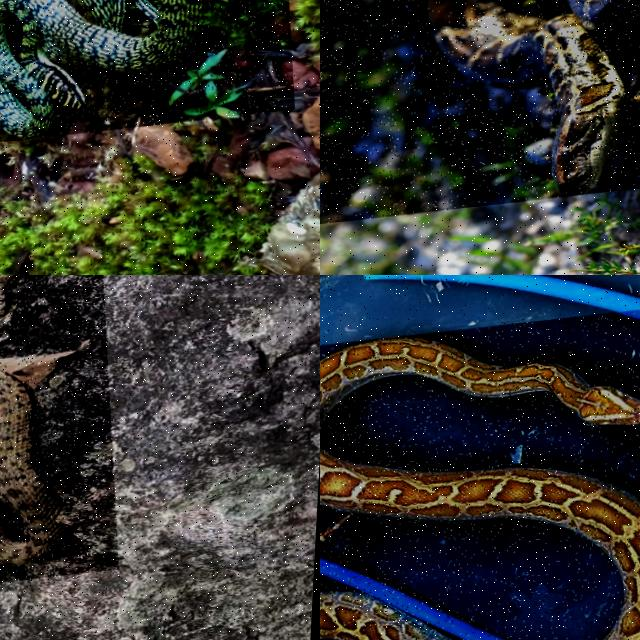Chrysopelea ornata: (0, 0, 203, 138)
Ovophis monticola: (0, 369, 69, 565)
Python bivittatus: (320, 336, 639, 639), (426, 0, 639, 194)
